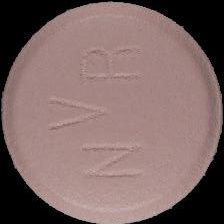54868-5772: (0, 0, 224, 224)
